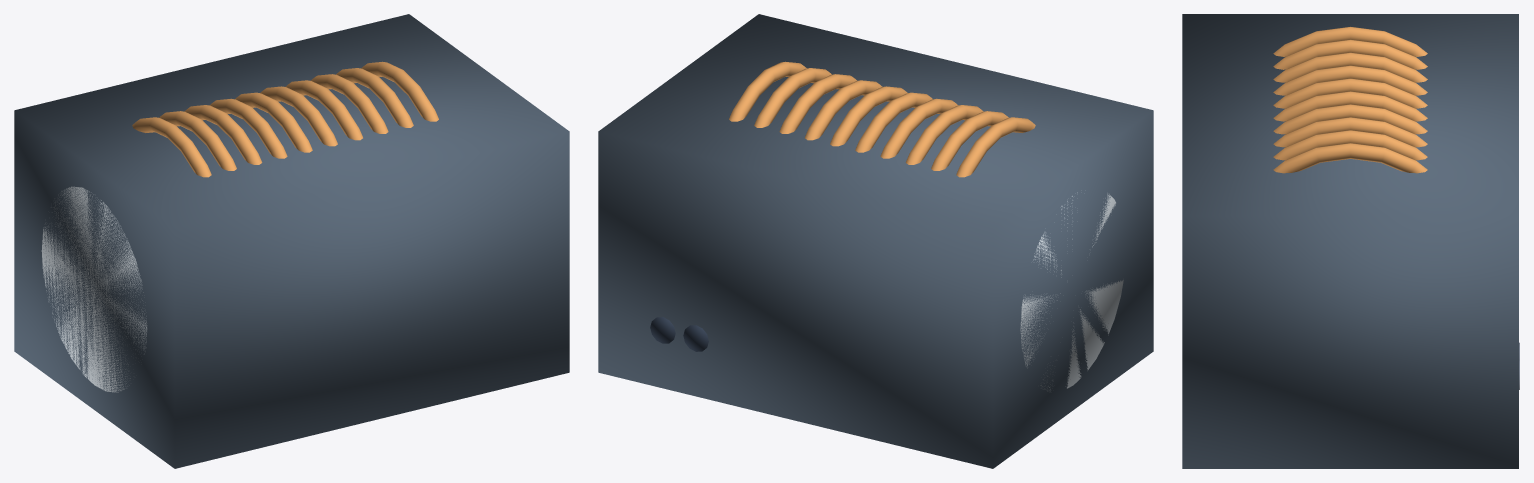
Rendered from L87_41_DriveThermalCoolingManifold_Fitted.fbx.
The picture shows the model from 3 angles, left to right: view 1: azimuth 30°, elevation 25°; view 2: azimuth 150°, elevation 25°; view 3: azimuth 270°, elevation 25°; orthographic projection. The views are drawn at different scales.
Parts seen in each view (by area): view 1: L87_DriveThermalCoolingManifold_Static__tint1A2430, L87_DriveThermalCoolingManifold_ANIM_DRIVE_COOLING_IMPELLER_ (×2); view 2: L87_DriveThermalCoolingManifold_Static__tint1A2430, L87_DriveThermalCoolingManifold_ANIM_DRIVE_COOLING_IMPELLER_ (×2), L87_DriveThermalCoolingManifold_Static__tint0A0F1A; view 3: L87_DriveThermalCoolingManifold_Static__tint1A2430, L87_DriveThermalCoolingManifold_ANIM_DRIVE_COOLING_IMPELLER_.
Part boxes in pixels (left/top/right/bottom): L87_DriveThermalCoolingManifold_Static__tint1A2430: left=14, top=14, right=569, bottom=468; L87_DriveThermalCoolingManifold_ANIM_DRIVE_COOLING_IMPELLER_ (×2): left=41, top=61, right=438, bottom=392; L87_DriveThermalCoolingManifold_Static__tint1A2430: left=598, top=14, right=1153, bottom=468; L87_DriveThermalCoolingManifold_ANIM_DRIVE_COOLING_IMPELLER_ (×2): left=729, top=61, right=1123, bottom=391; L87_DriveThermalCoolingManifold_Static__tint0A0F1A: left=650, top=317, right=708, bottom=351; L87_DriveThermalCoolingManifold_Static__tint1A2430: left=1182, top=14, right=1518, bottom=468; L87_DriveThermalCoolingManifold_ANIM_DRIVE_COOLING_IMPELLER_: left=1273, top=26, right=1427, bottom=173.
Bounding box in the file's own units: 12 × 7.74 × 8.47.
